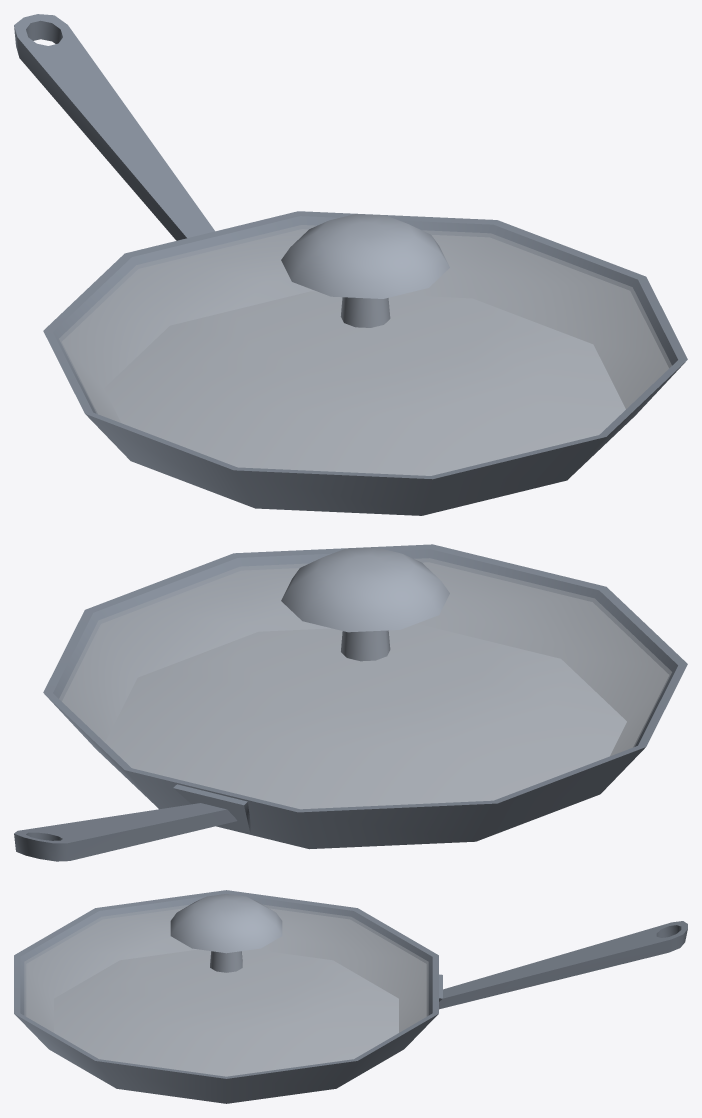
The model's file is pan_frying_pan_001.glb.
The picture shows the model from 3 angles, top to bottom: view 1: azimuth 30°, elevation 25°; view 2: azimuth 150°, elevation 25°; view 3: azimuth 270°, elevation 25°; orthographic projection. The views are drawn at different scales.
Visible parts, largest first — view 1: pan frying pan.001, pan frying pan lid; view 2: pan frying pan.001, pan frying pan lid; view 3: pan frying pan.001, pan frying pan lid.
Part boxes in pixels (x1,y1,x2,y2): pan frying pan.001: (14, 14, 687, 515); pan frying pan lid: (59, 214, 671, 475); pan frying pan.001: (14, 544, 687, 861); pan frying pan lid: (59, 547, 671, 808); pan frying pan.001: (14, 890, 687, 1103); pan frying pan lid: (24, 894, 428, 1076).
Bounding box in the file's own units: 5.63 × 1.67 × 8.5.
2 materials, 2 textured.
